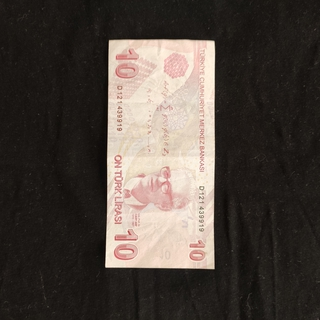10TLBack: (104, 37, 216, 271)
